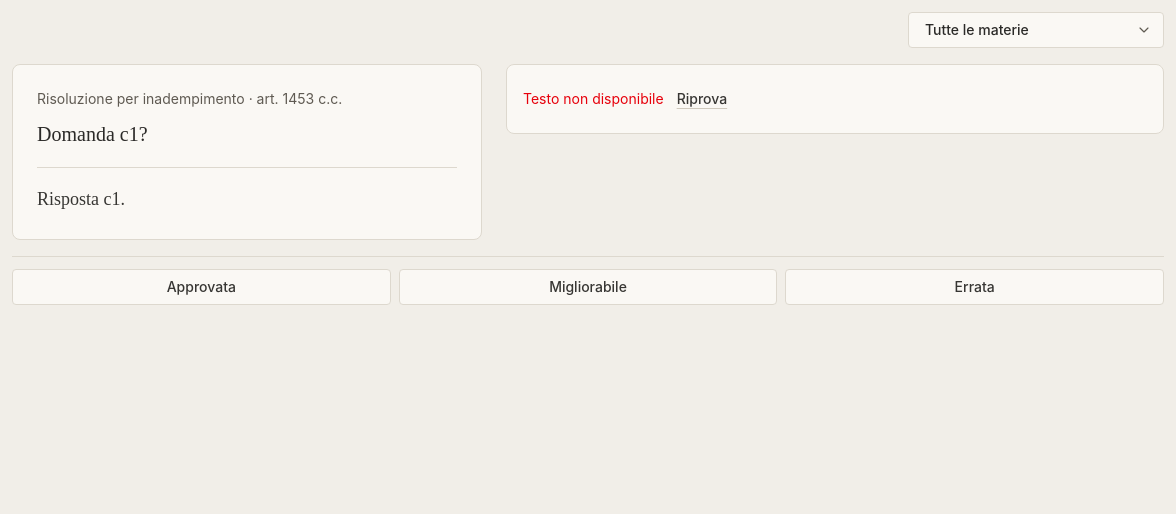
Scenario: «Da validare», the card and its article › says the text could not be read, with a way to try again
The width and height of the screenshot is (1176, 514).
expect the text "Testo non disponibile" is shown: met, box [523, 89, 664, 109]
Click the button "Riprova".
click(702, 99)  # box [676, 81, 728, 117]
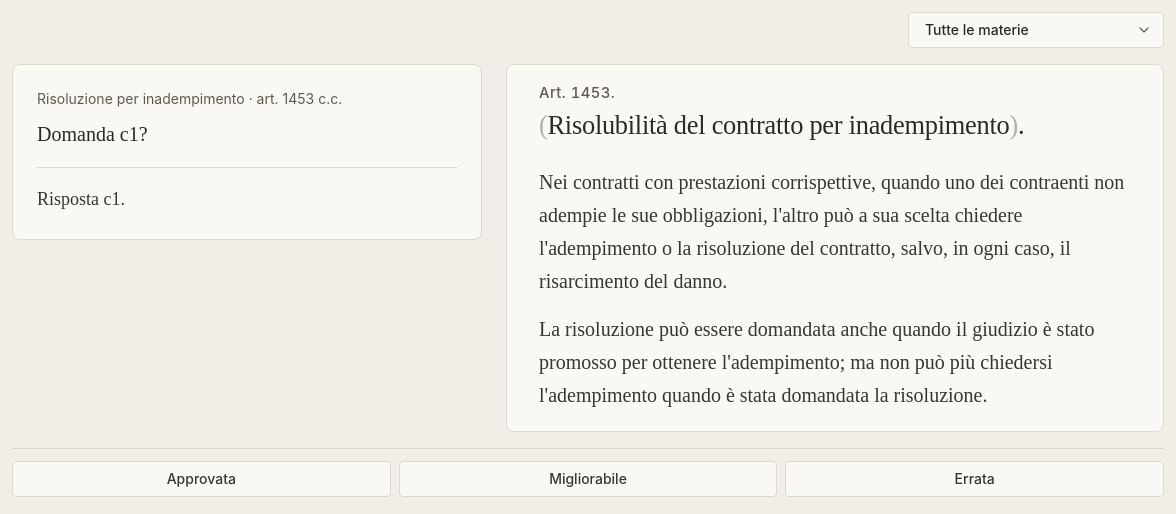
expect the text "Nei contratti con prestazioni corrispettive" is shown: met, box [539, 171, 1124, 292]
